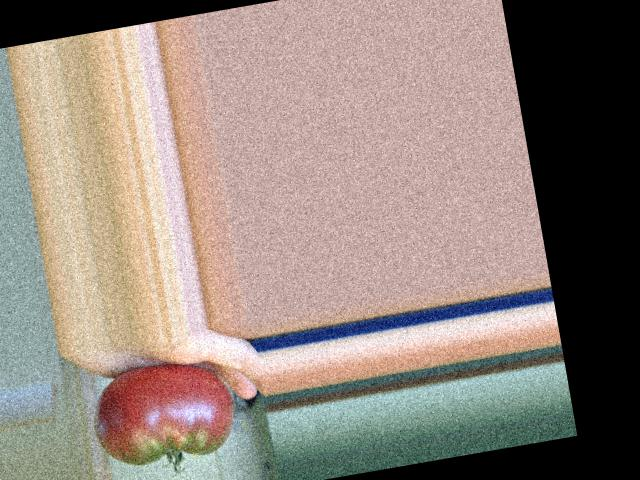tomato: (85, 353, 240, 472)
